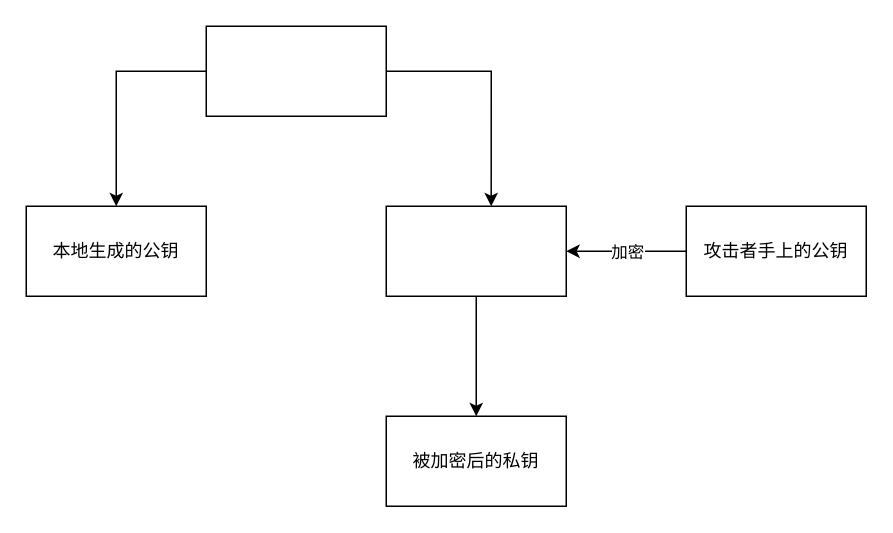
The diagram is 893 pixels wide and 533 high, and some of its shapes have lost their labels. Here are the shapes that lost their labels. From the top down, the centre of each, then its label:
the point at 295,70: 本地生成一对密钥
the point at 475,250: 本地生成的私钥
